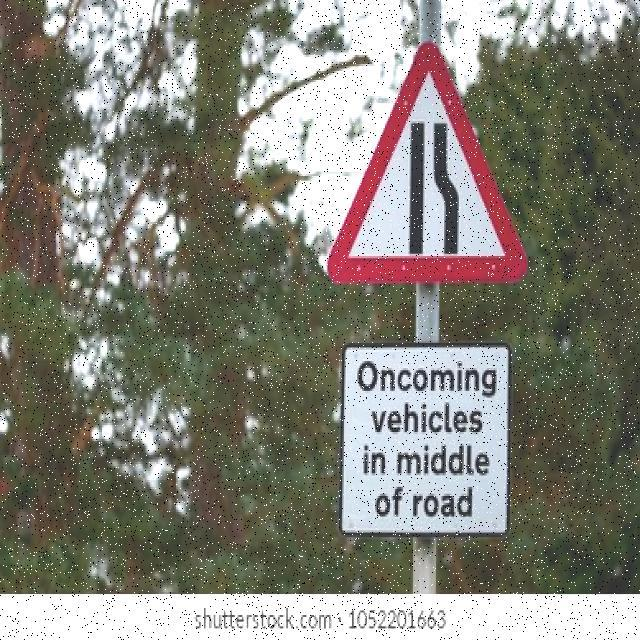Traffic sign: (324, 38, 532, 546)
